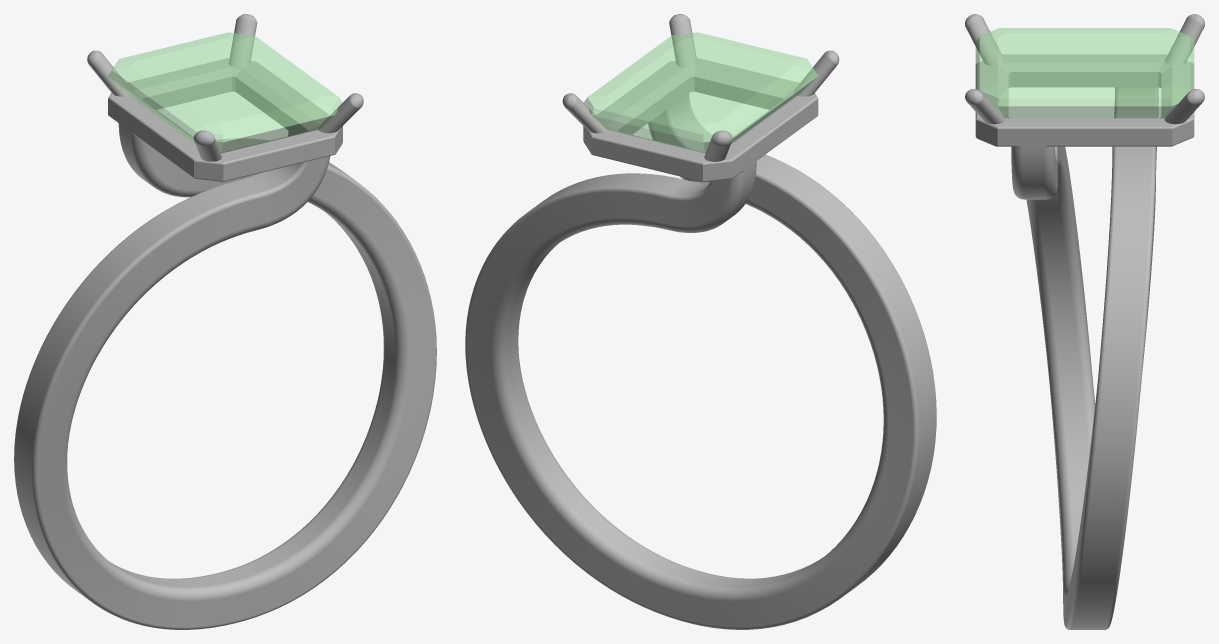
3 renders of one model, left to right at view 1: azimuth 30°, elevation 25°; view 2: azimuth 150°, elevation 25°; view 3: azimuth 270°, elevation 25°, orthographic.
Visible parts, largest first — view 1: Part1^Assem6-1, Part2-2; view 2: Part1^Assem6-1, Part2-2; view 3: Part1^Assem6-1, Part2-2.
Boxes of the visible parts, x1,y1,x2,y2 form: Part1^Assem6-1: (14, 14, 436, 629); Part2-2: (108, 32, 342, 153); Part1^Assem6-1: (465, 14, 936, 629); Part2-2: (584, 32, 817, 153); Part1^Assem6-1: (965, 14, 1204, 629); Part2-2: (975, 28, 1194, 118).
Size of the model in its own units: 0.023 by 0.0279 by 0.011.
